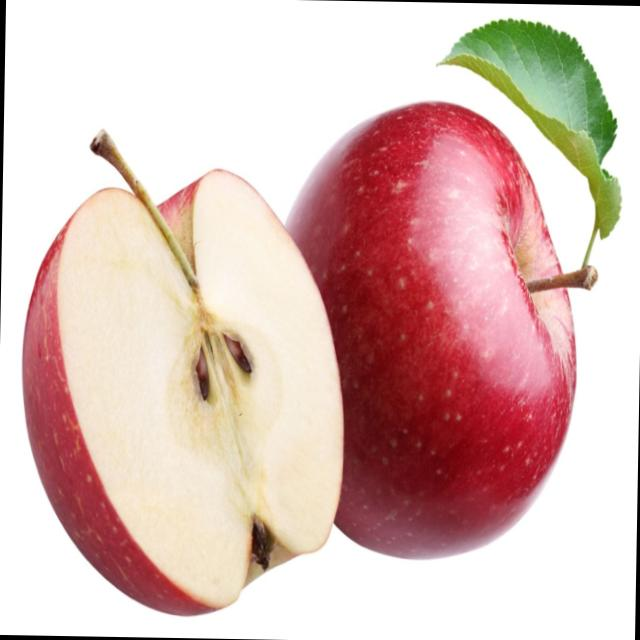Apel: (17, 126, 350, 620), (277, 96, 584, 563)
